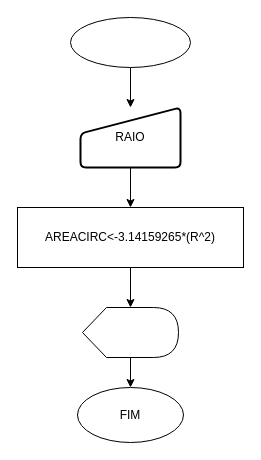
The diagram is 261 pixels wide and 460 high, and some of its shapes have lost their labels. The centre of each missing label's shape, as x and y in pixels:
"AREACIRC" goes at point 130,332.
"INICIO" goes at point 130,42.
